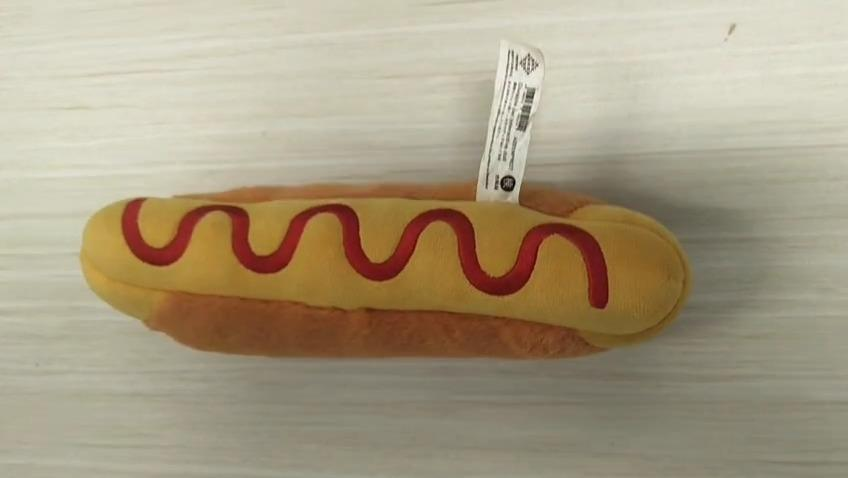hotdog: (79, 177, 692, 360)
